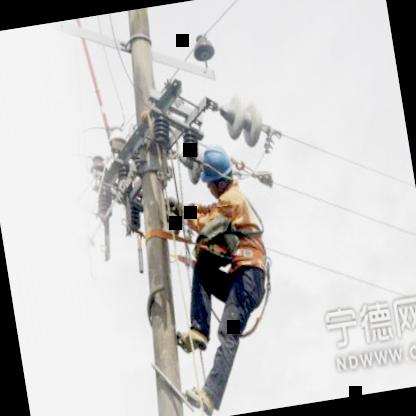helmet: (192, 134, 240, 200)
